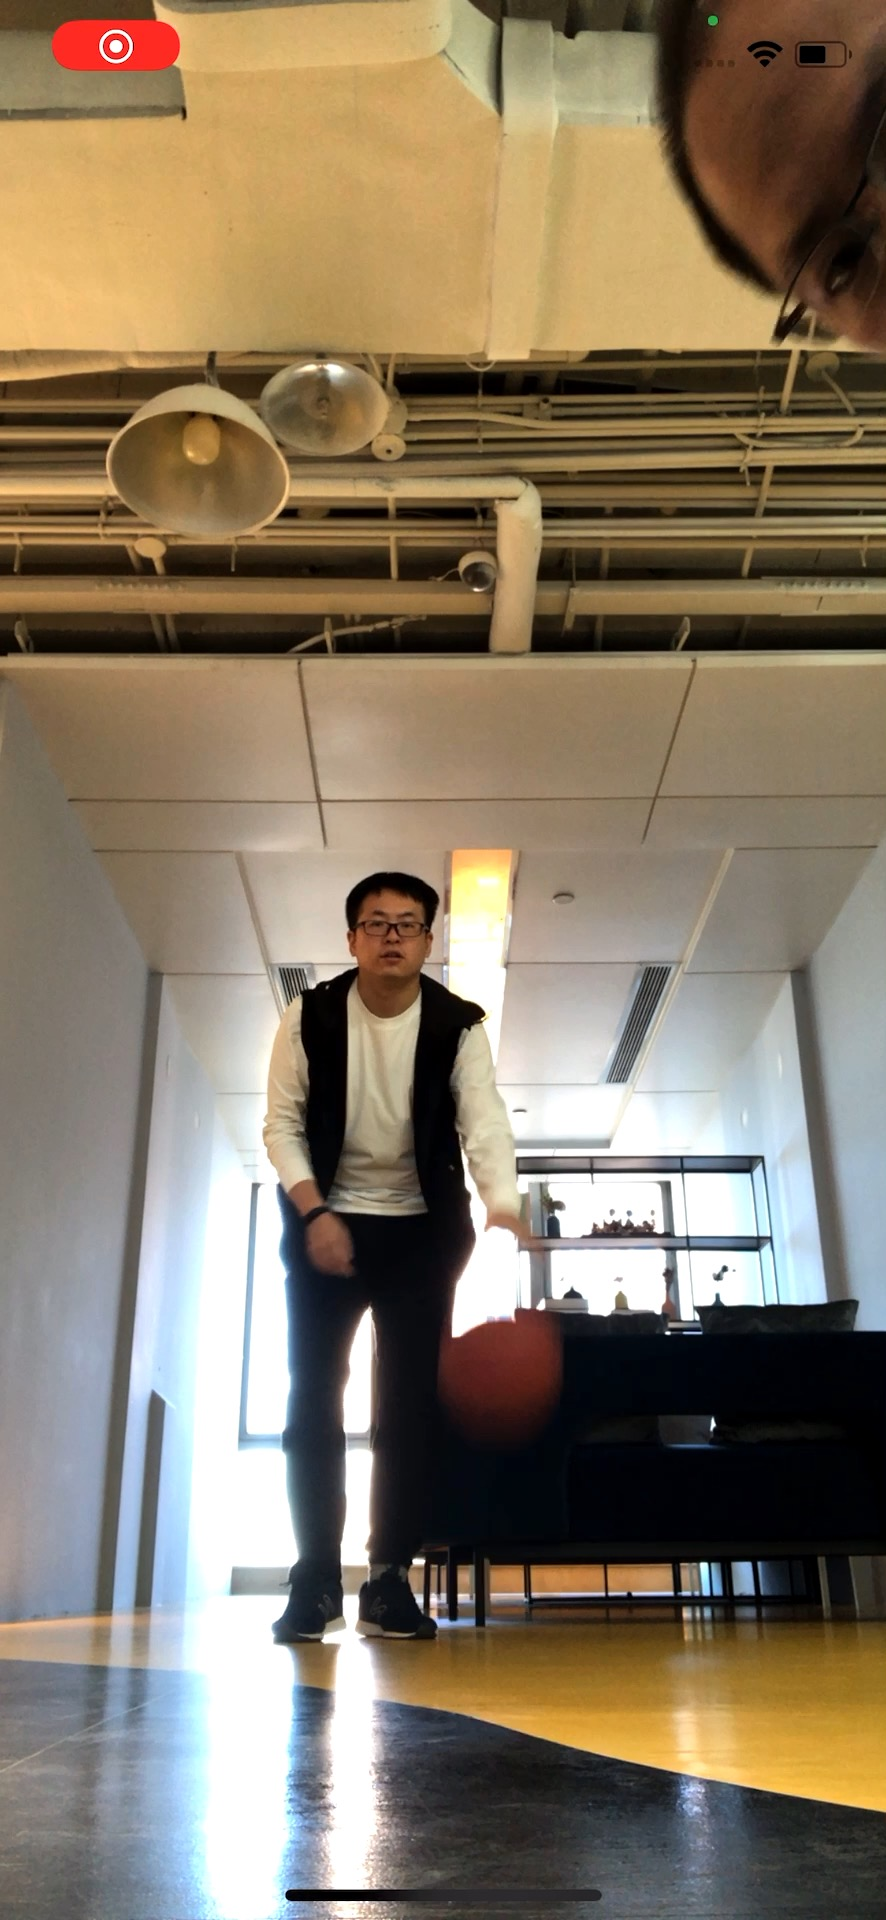ball: (443, 1316, 560, 1423)
